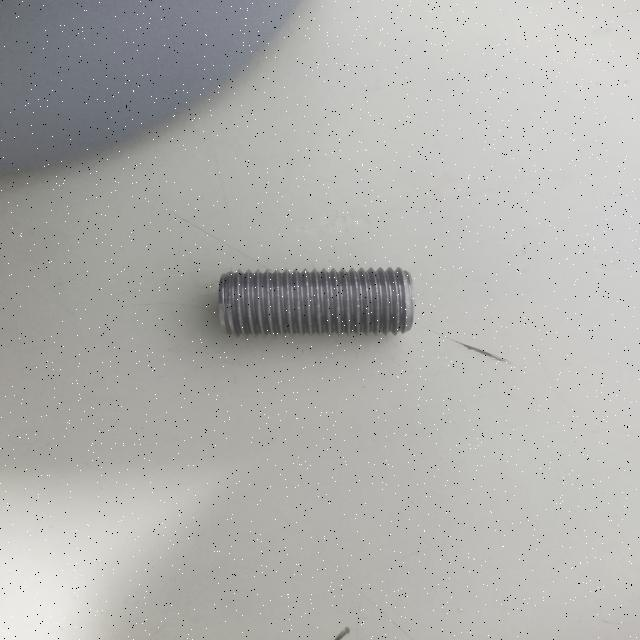Normal: (216, 266, 415, 338)
